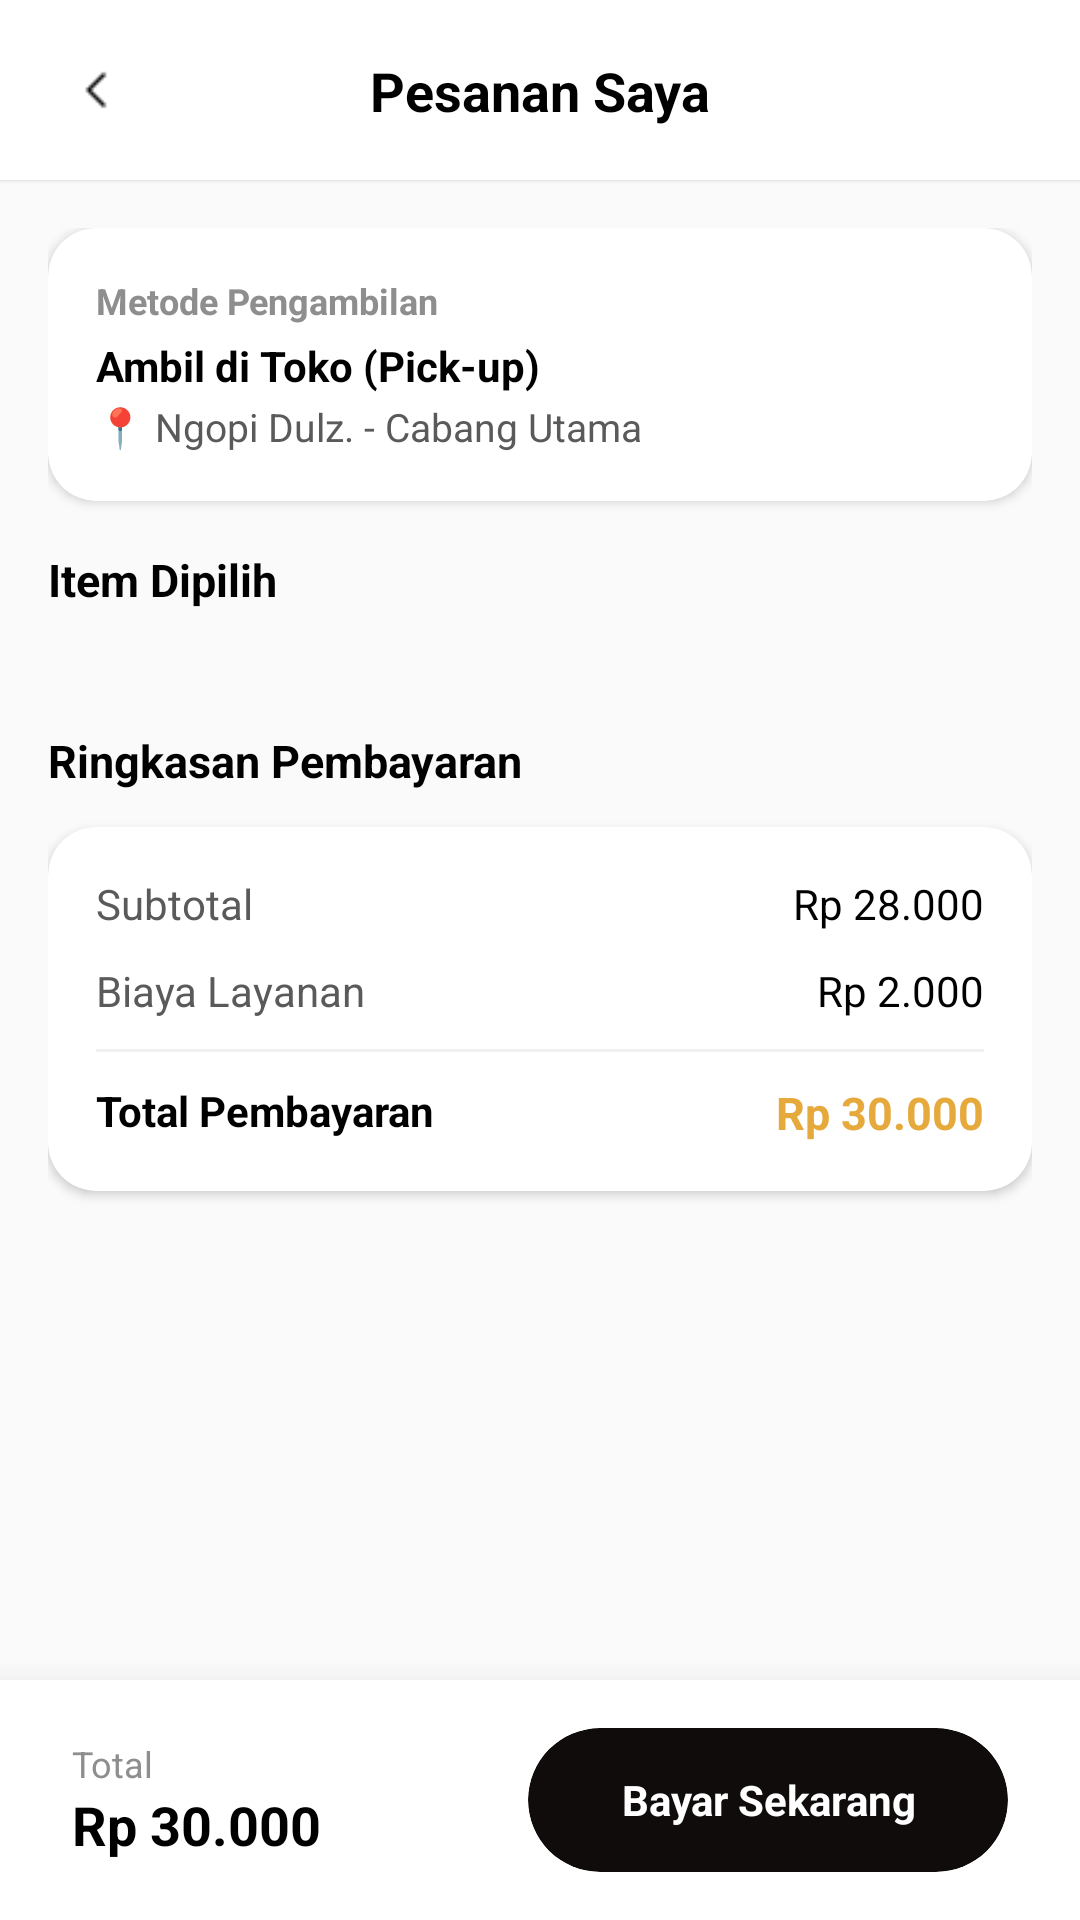

Icons on this 1080×1920 Android screen, each with its box as (x1, y1, x2, y2):
back: (85, 72, 107, 108)
